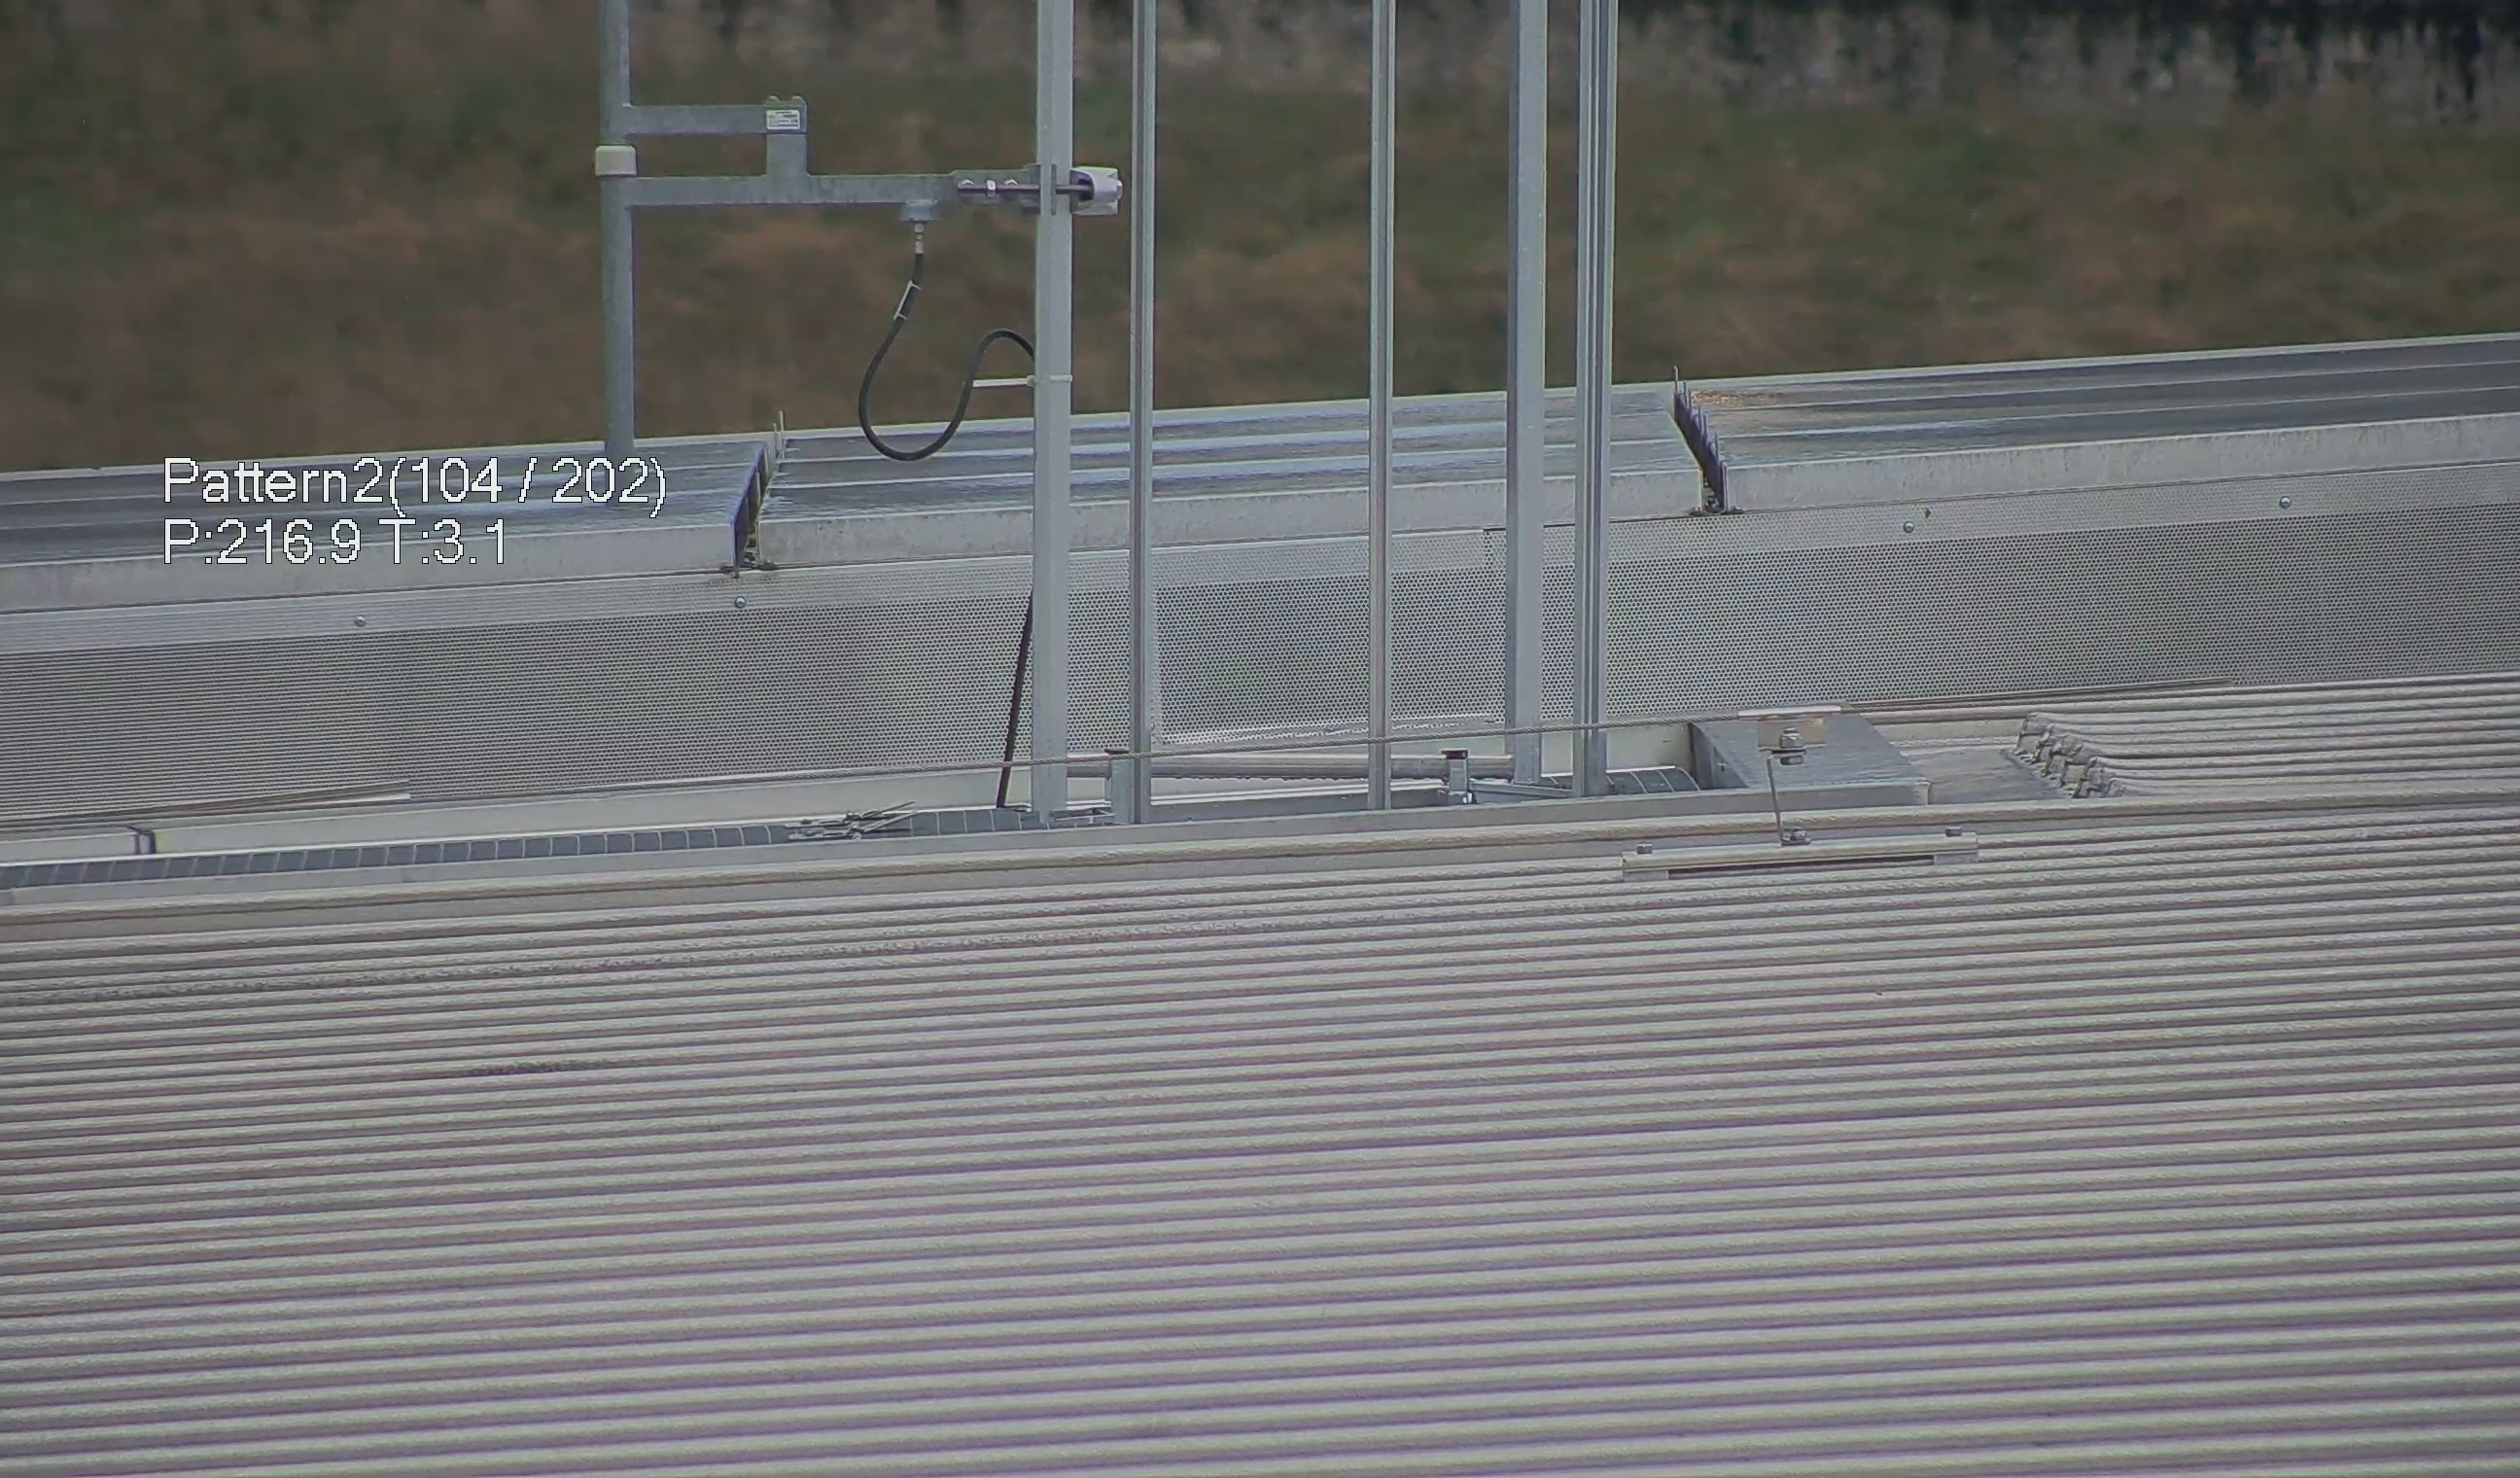Other: (1662, 364, 1755, 516)
